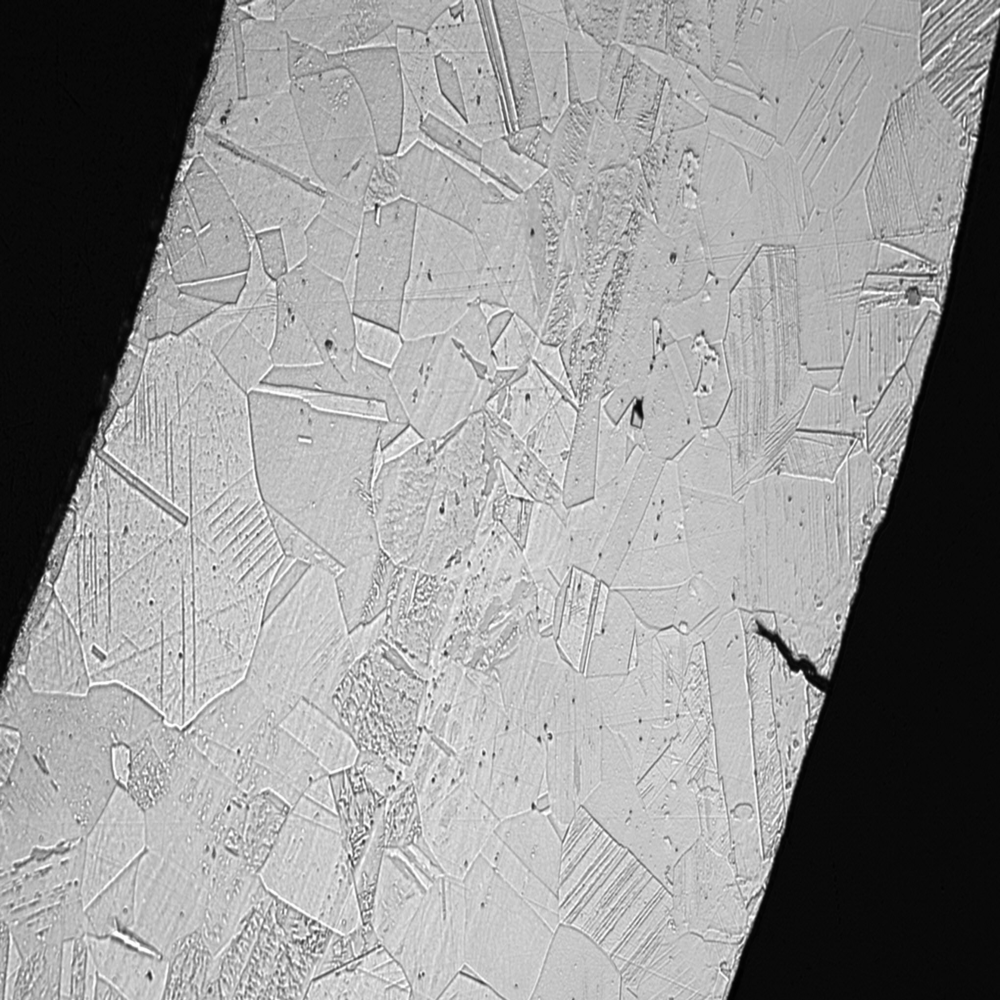crack: (736, 591, 837, 716)
